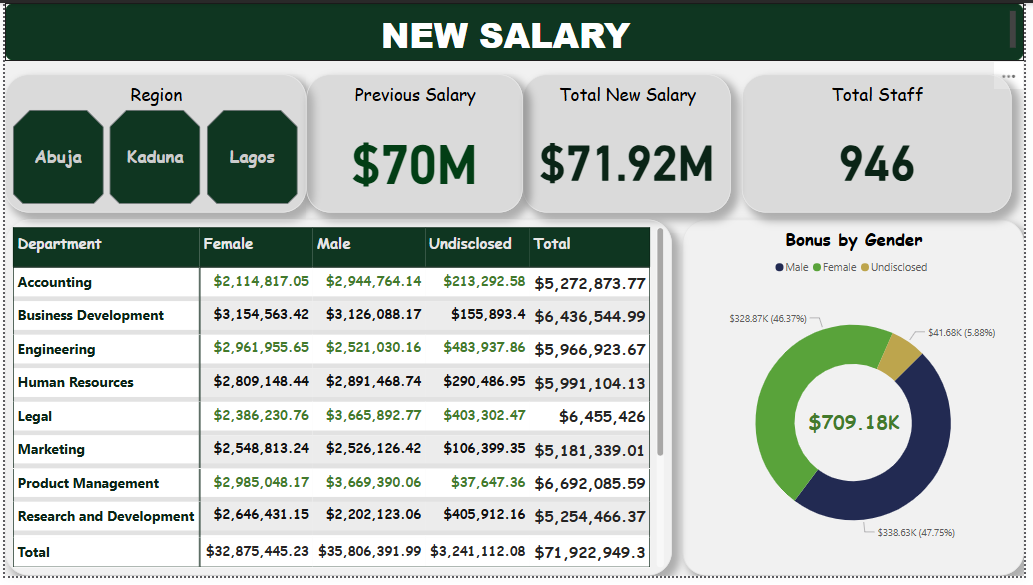

What the dashboard file says about the page in this screenshot:
{"tool":"powerbi","page":{"name":"Page 4","canvas":[1280,720],"ordinal":3},"visuals":[{"type":"textbox","box":[0,0,1280.3,72.9],"z":0},{"type":"donutChart","title":"Bonus by Gender","fields":{"Series":["Palmoria Group emp-data.Salary Band"],"Category":["Palmoria Group emp-data.Gender"],"Y":["Sum(Palmoria Group emp-data.Bonus)"]},"box":[851.6,272.2,428.8,447.1],"z":1000},{"type":"card","title":"Total New Salary","fields":{"Values":["Sum(Palmoria Group emp-data.New Salary)"]},"box":[650.8,89.7,261.6,173.4],"z":2000},{"type":"advancedSlicerVisual","title":"Region","fields":{"Values":["Palmoria Group emp-data.Location"]},"box":[0,89.7,378.6,173.4],"z":3000},{"type":"card","title":"Previous Salary","fields":{"Values":["Sum(Palmoria Group emp-data.Salary)"]},"box":[378.6,89.7,272.2,173.4],"z":4000},{"type":"pivotTable","fields":{"Rows":["Palmoria Group emp-data.Department"],"Columns":["Palmoria Group emp-data.Gender"],"Values":["Sum(Palmoria Group emp-data.New Salary)"]},"box":[0,272.2,837.9,447.1],"z":5000},{"type":"card","fields":{"Values":["Sum(Palmoria Group emp-data.Bonus)"]},"box":[999.1,477.5,135.3,100.4],"z":6000},{"type":"card","title":"Total Staff","fields":{"Values":["Palmoria Group emp-data.TotalEmployee"]},"box":[926.1,89.7,339.1,173.4],"z":7000}]}

Visuals, with their boxes in screenshot pixels (x1, y1, x2, y2), scaled from the page's 1280x720 canvas onto the 1033x585 screenshot:
textbox: bbox=[0, 0, 1032, 59]
"Bonus by Gender" donutChart: bbox=[687, 221, 1032, 584]
"Total New Salary" card: bbox=[525, 73, 736, 214]
"Region" advancedSlicerVisual: bbox=[0, 73, 306, 214]
"Previous Salary" card: bbox=[306, 73, 525, 214]
pivotTable - Palmoria Group emp-data.Department x Palmoria Group emp-data.Gender: bbox=[0, 221, 676, 584]
card - Sum(Palmoria Group emp-data.Bonus): bbox=[806, 388, 915, 470]
"Total Staff" card: bbox=[747, 73, 1021, 214]
